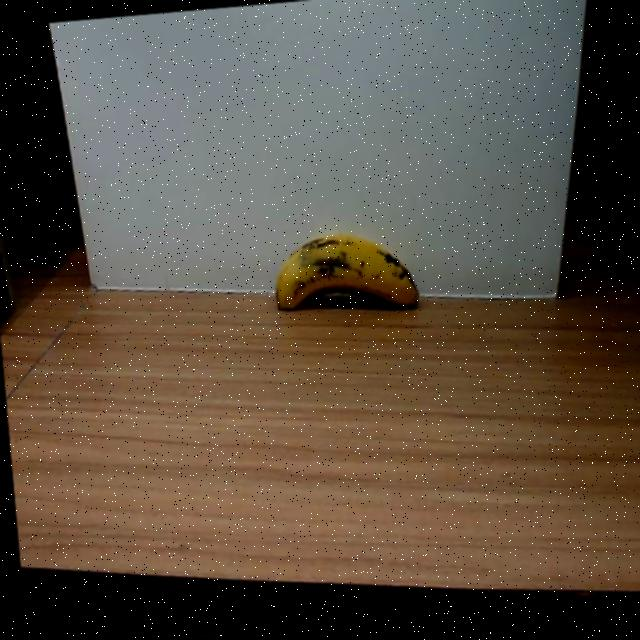Overripe: (252, 206, 438, 350)
